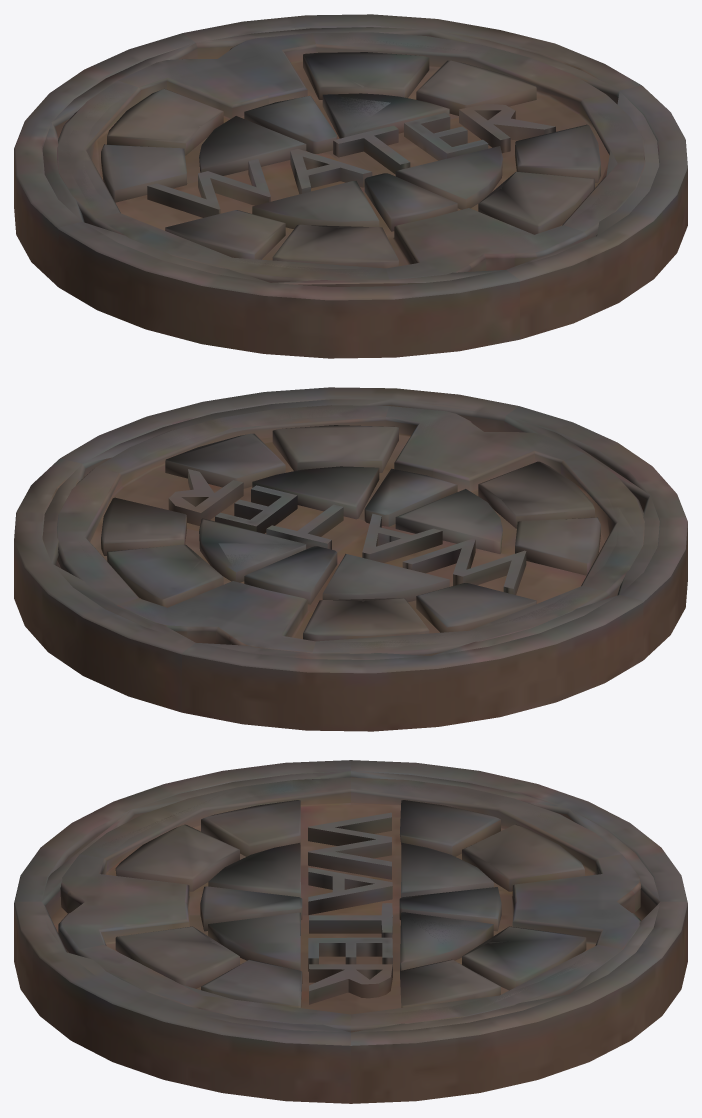
Rendered from water_manhole_cover.glb.
3 renders of one model, top to bottom at view 1: azimuth 30°, elevation 25°; view 2: azimuth 150°, elevation 25°; view 3: azimuth 270°, elevation 25°, orthographic.
Visible parts, largest first — view 1: water_manhole_cover_frame, water_manhole_cover_frame_lo; view 2: water_manhole_cover_frame, water_manhole_cover_frame_lo; view 3: water_manhole_cover_frame, water_manhole_cover_frame_lo.
Boxes of the visible parts, bbox=[...] form: water_manhole_cover_frame: bbox=[14, 14, 687, 358]; water_manhole_cover_frame_lo: bbox=[42, 27, 659, 286]; water_manhole_cover_frame: bbox=[14, 387, 687, 731]; water_manhole_cover_frame_lo: bbox=[42, 399, 659, 659]; water_manhole_cover_frame: bbox=[14, 760, 687, 1103]; water_manhole_cover_frame_lo: bbox=[41, 771, 660, 1032].
Size of the model in its own units: 0.6908 by 0.0676 by 0.6908.
Materials: 1 (1 with a texture image).
